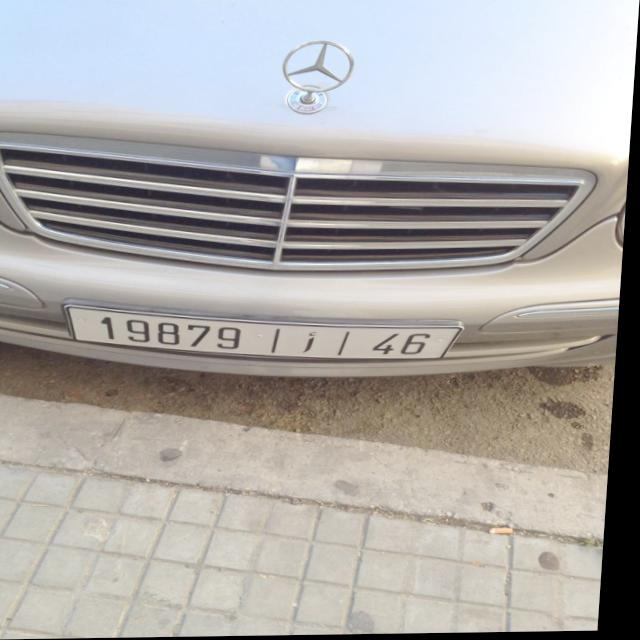License-Plate: (69, 305, 466, 362)
